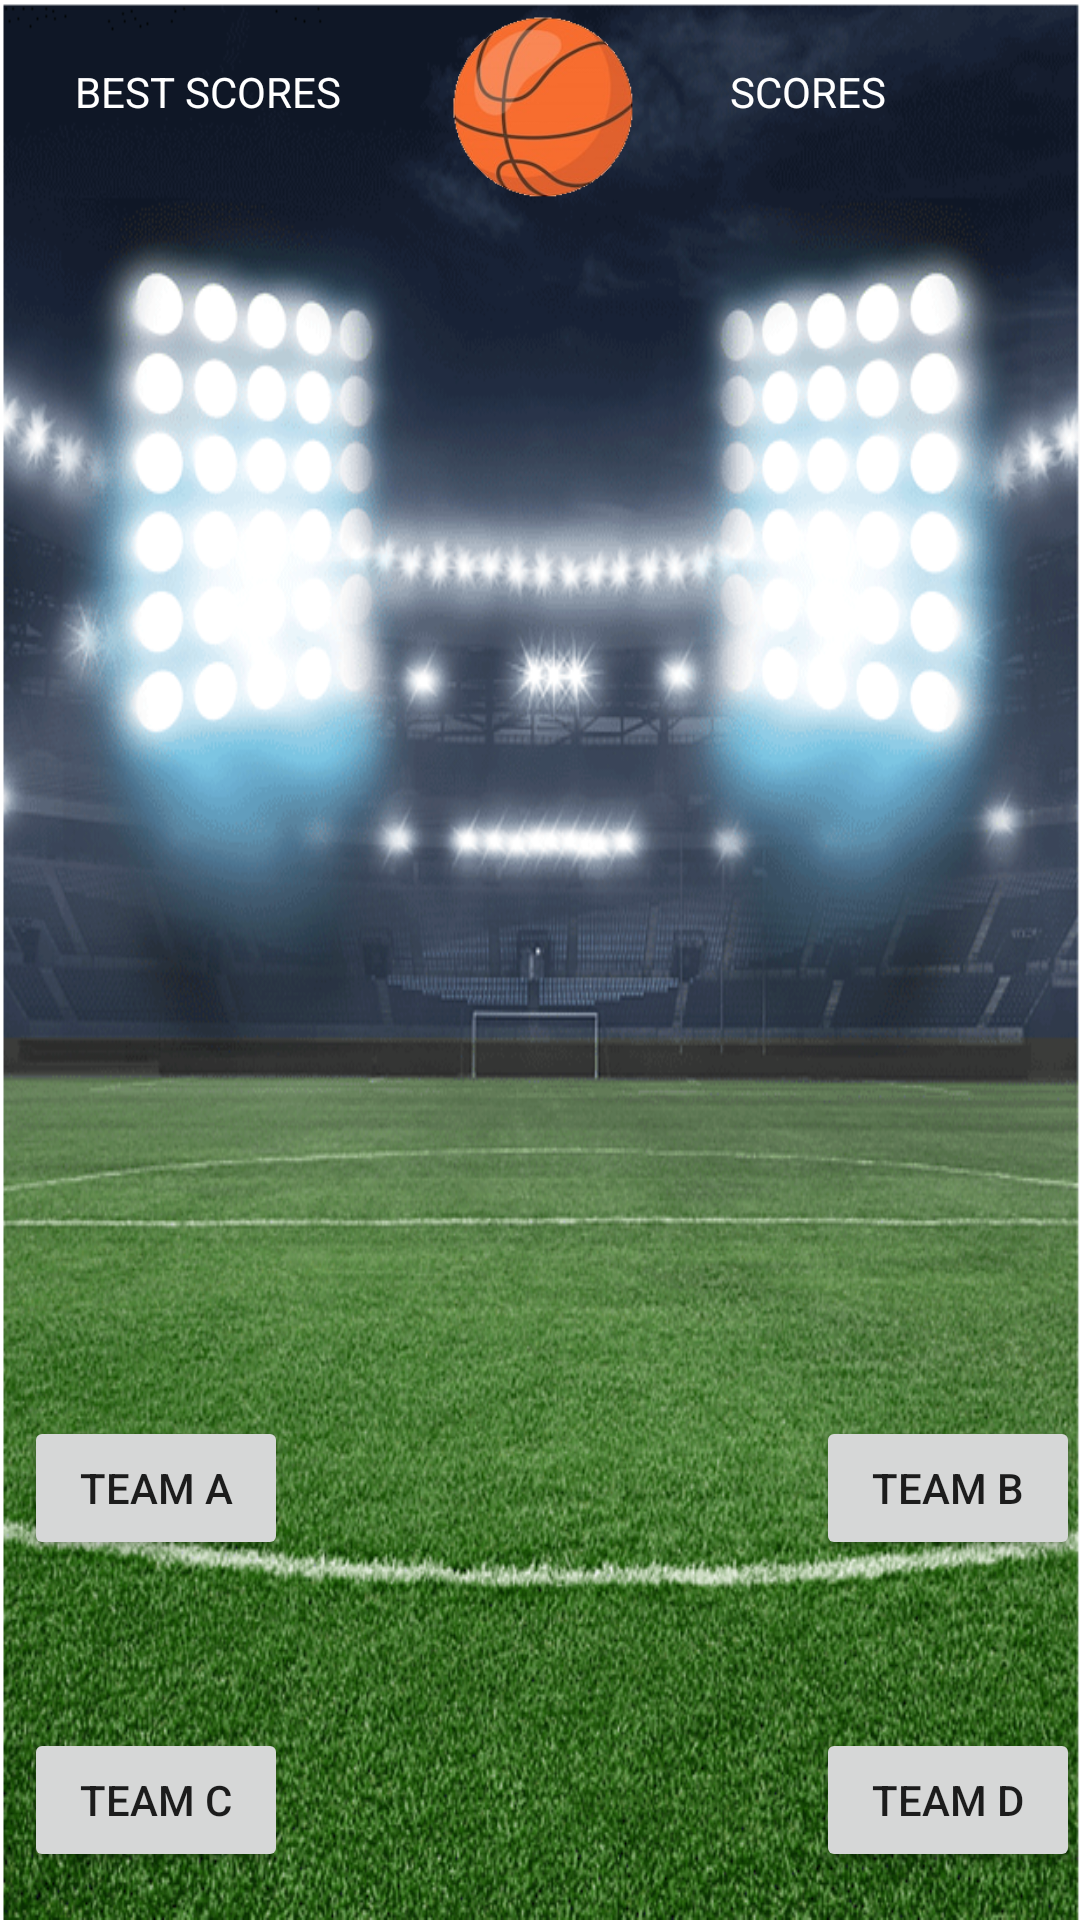

Named icons in this screenshot (1080px×1920px) and their bounding boxes, [left=x1, top=y1, right=x2, bottom=y2]:
ball basket: [left=442, top=17, right=645, bottom=216]
